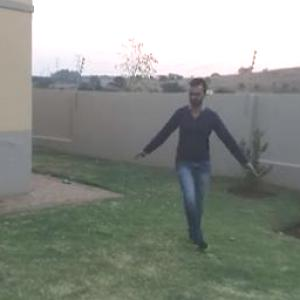land: (138, 65, 265, 267)
